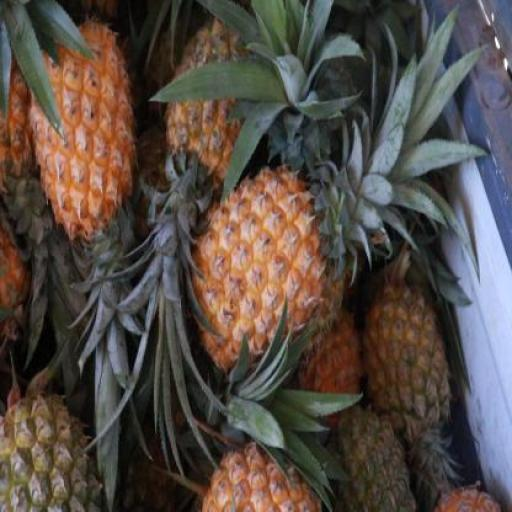------------------------------: (360, 277, 447, 450), (0, 390, 108, 512)
Pineapple - v8 v1: (184, 166, 333, 376), (23, 19, 135, 246)
